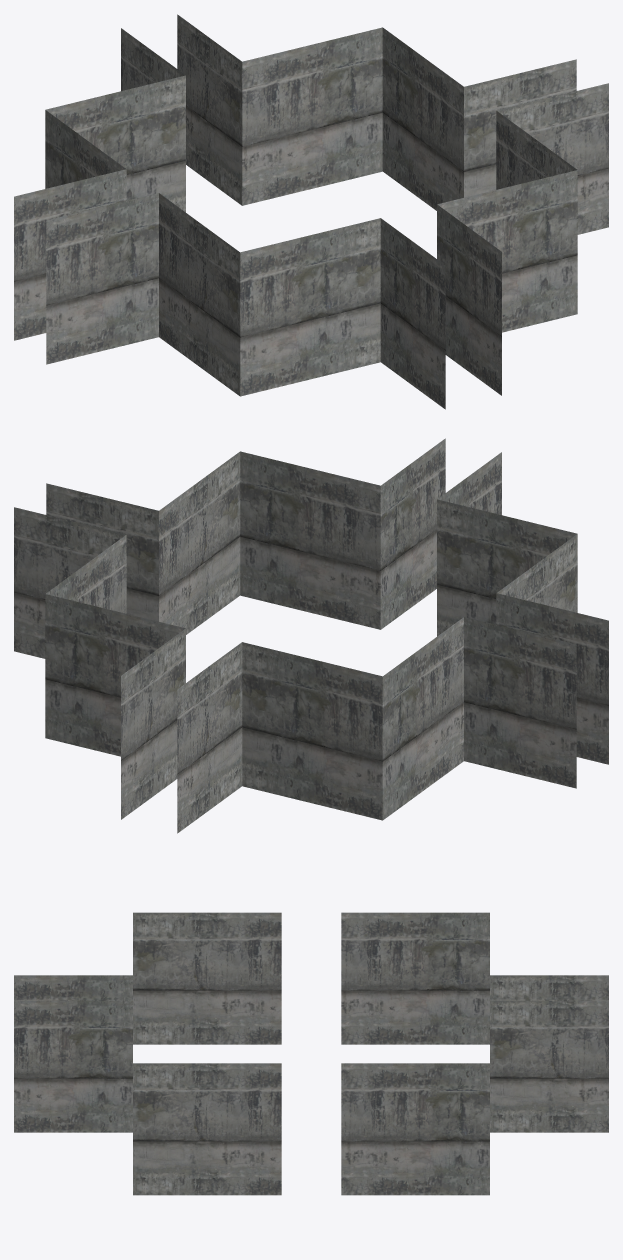
The model's file is north_east_south_west_none_2.obj.
3 views of the same model, one above another, from view 1: azimuth 30°, elevation 25°; view 2: azimuth 150°, elevation 25°; view 3: azimuth 270°, elevation 25° (orthographic). The views are drawn at different scales.
Parts seen in each view (by area): view 1: Room; view 2: Room; view 3: Room.
Part boxes in pixels (<box>): Room: <box>14,14,608,409</box>; Room: <box>14,438,608,833</box>; Room: <box>14,912,608,1195</box>.
Bounding box in the file's own units: 10 × 2.45 × 10.
1 material, 1 textured.
